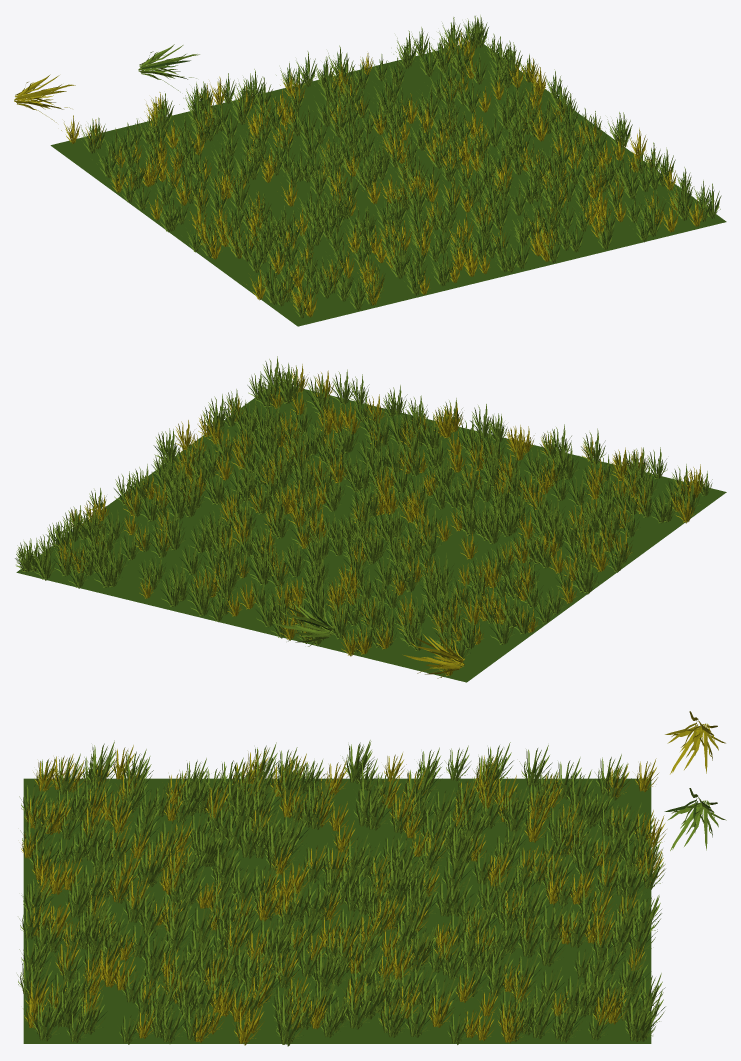
File: grassTEST.fbx
3 renders of one model, top to bottom at view 1: azimuth 30°, elevation 25°; view 2: azimuth 150°, elevation 25°; view 3: azimuth 270°, elevation 25°, orthographic. The views are drawn at different scales.
Visible parts, largest first — view 1: Plane.036, Plane.001, Plane; view 2: Plane.036, Plane, Plane.001; view 3: Plane.036, Plane.001, Plane, Plane.036|Plane.001|Dupli|424, Plane.036|Plane.001|Dupli|353, Plane.036|Plane.001|Dupli|321, Plane.036|Plane.001|Dupli|386, Plane.036|Plane.001|Dupli|377.
Boxes of the visible parts, x1,y1,x2,y2 form: Plane.036: [50, 43, 726, 326]; Plane.001: [138, 44, 199, 92]; Plane: [14, 74, 75, 122]; Plane.036: [16, 384, 726, 682]; Plane: [402, 634, 464, 678]; Plane.001: [272, 602, 334, 646]; Plane.036: [23, 778, 651, 1043]; Plane.001: [664, 788, 726, 850]; Plane: [665, 711, 725, 774]; Plane.036|Plane.001|Dupli|424: [519, 745, 552, 787]; Plane.036|Plane.001|Dupli|353: [343, 987, 373, 1029]; Plane.036|Plane.001|Dupli|321: [32, 999, 63, 1041]; Plane.036|Plane.001|Dupli|386: [574, 840, 607, 882]; Plane.036|Plane.001|Dupli|377: [516, 915, 547, 957].
Bounding box in the file's own units: 212 × 24.45 × 227.
